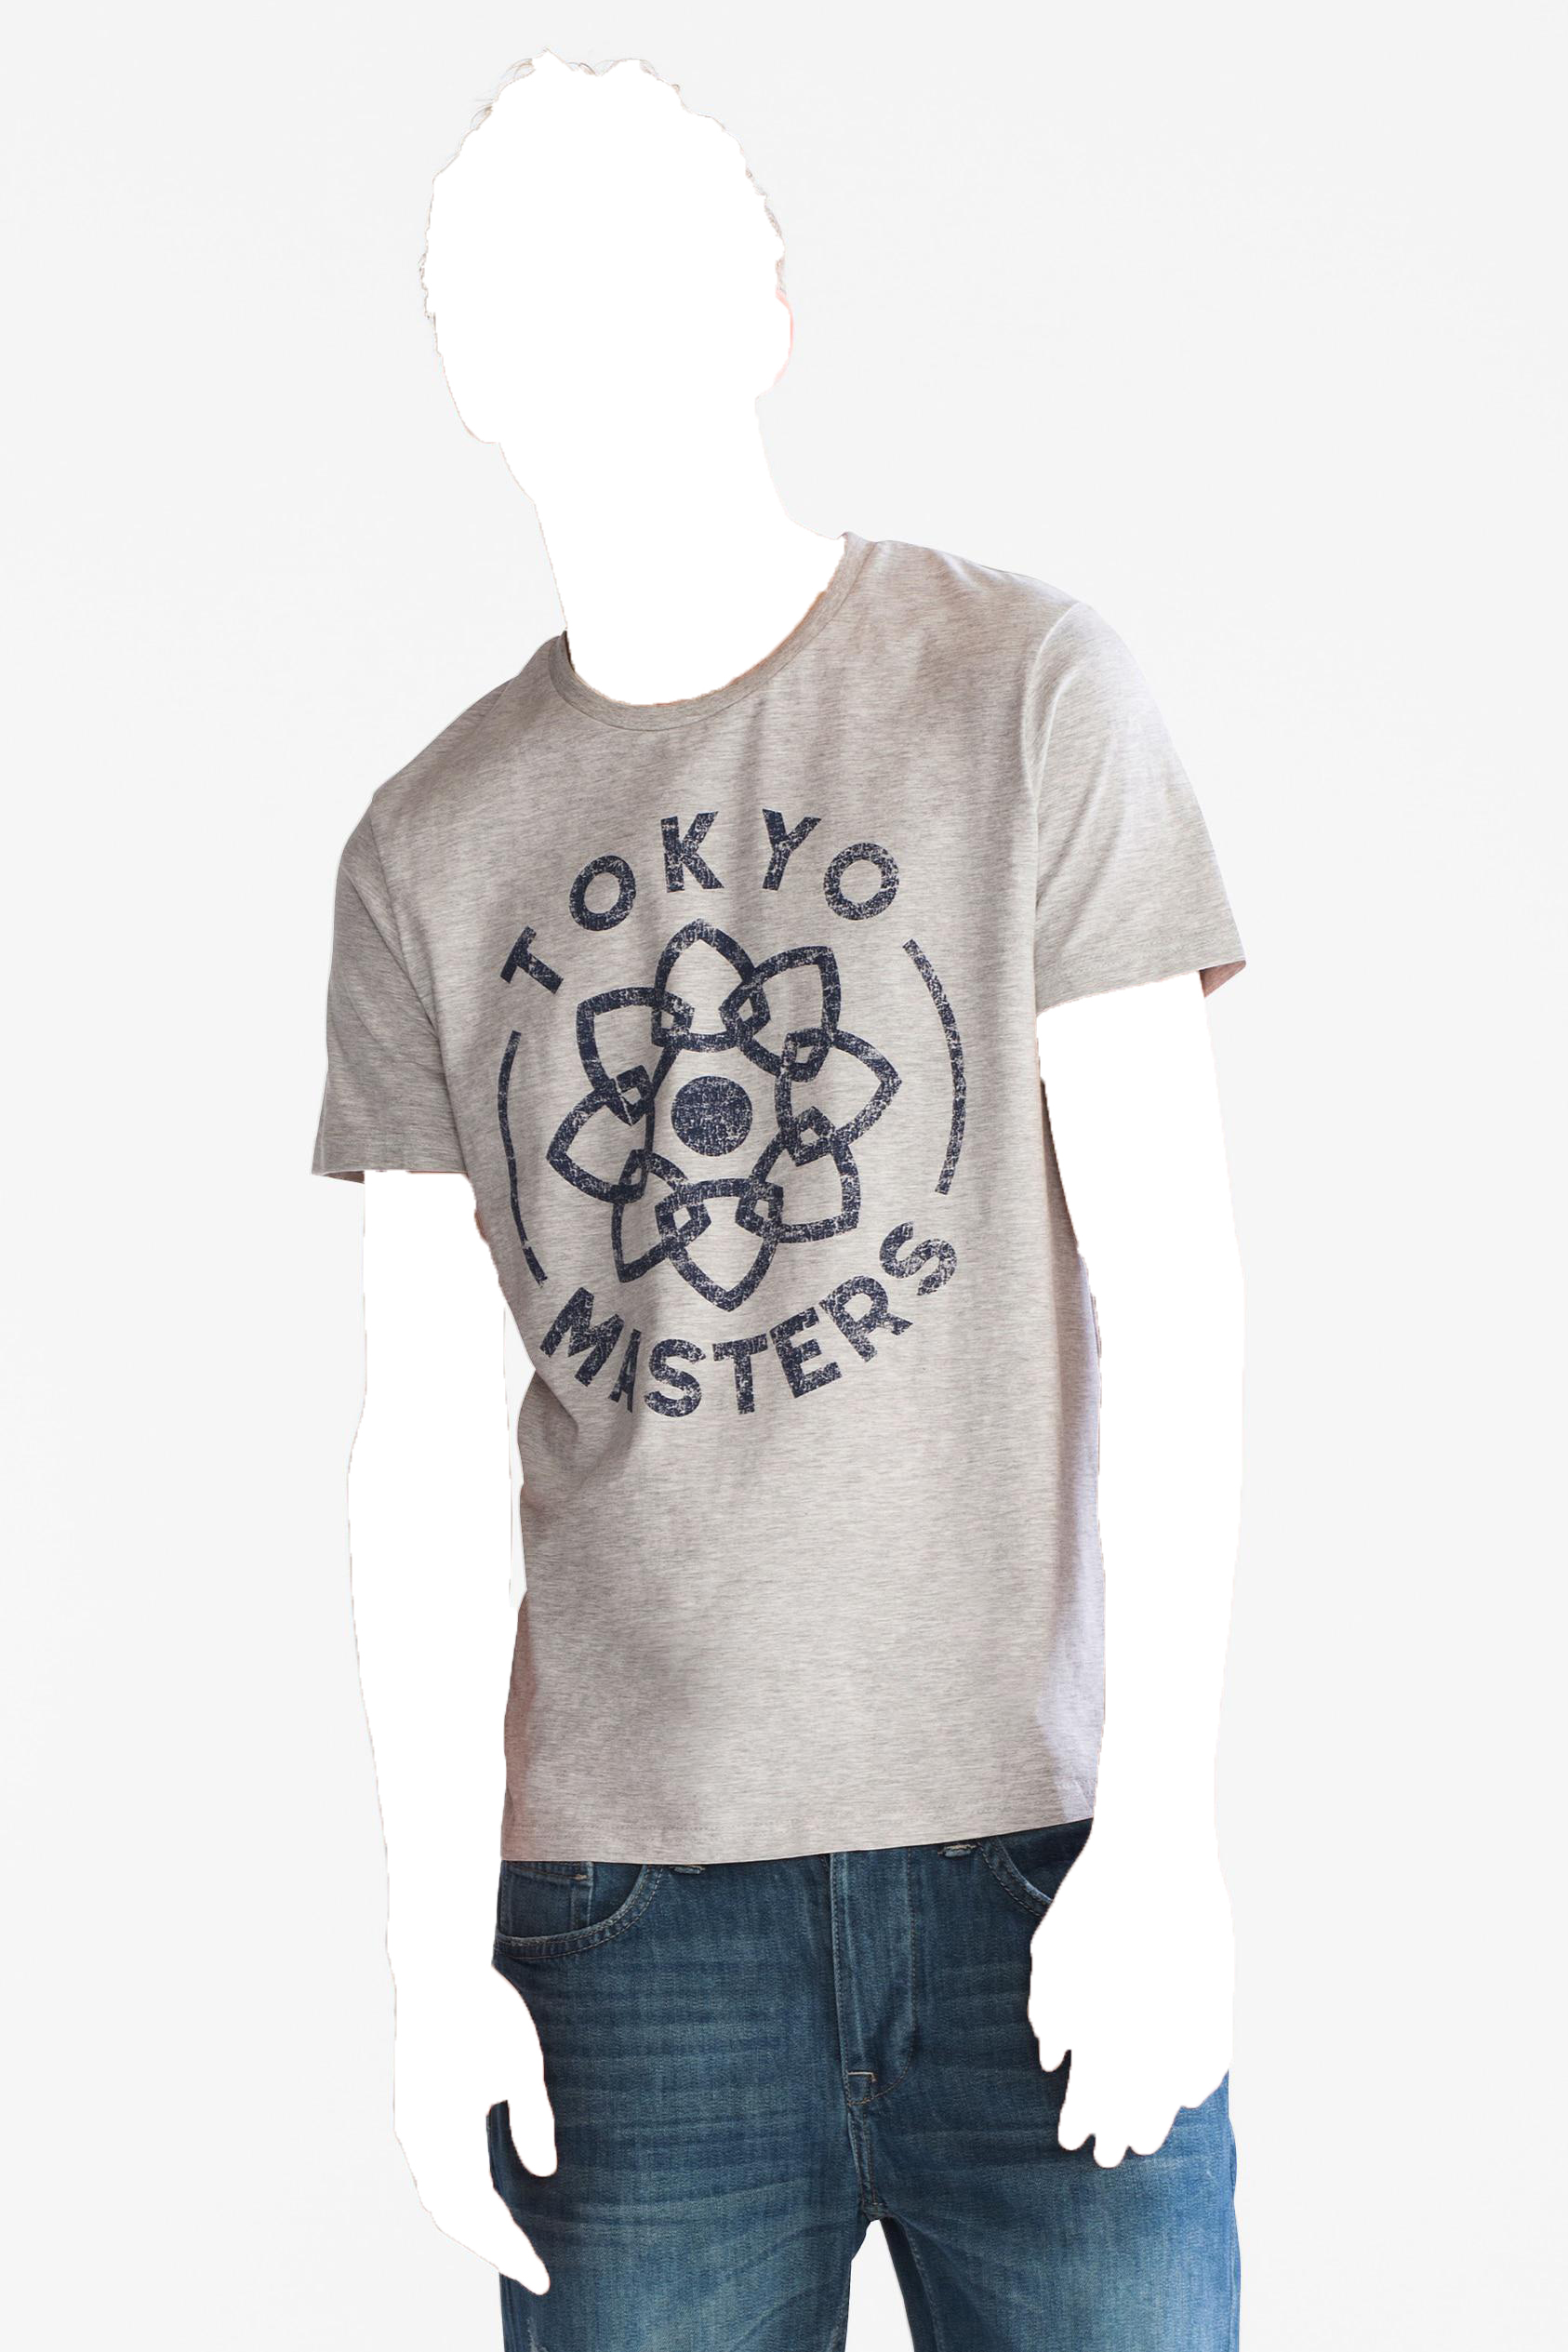teeshirt: (275, 516, 1239, 1869)
